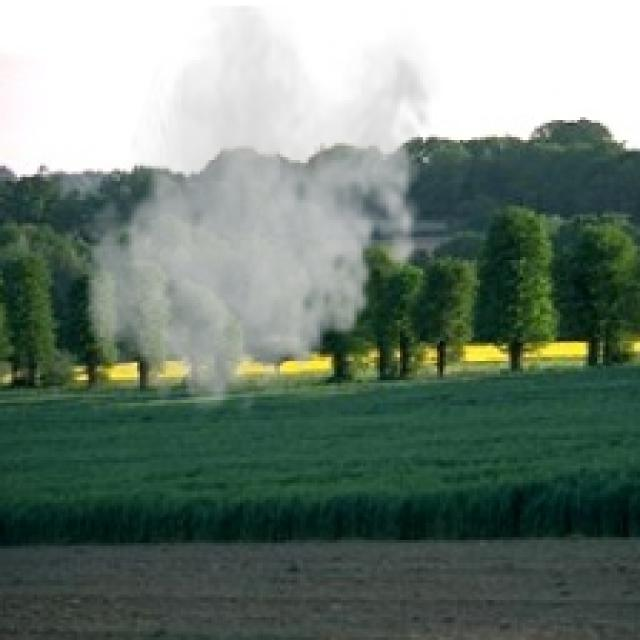smoke: (77, 6, 443, 426)
